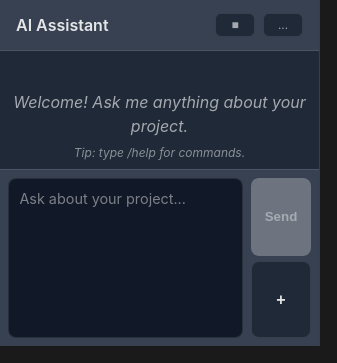
Test: ChatPanel - Autopilot Features › Autopilot Start Safeguards › surfaces backend errors when autopilot session id is missing
In the text box with test id "chat-input": (126, 258) [8,178,243,338], type "Start autopilot please"
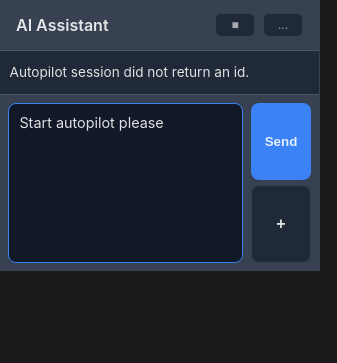
Result: the text "Autopilot session did not return an id." is shown at [10,64,249,80]
